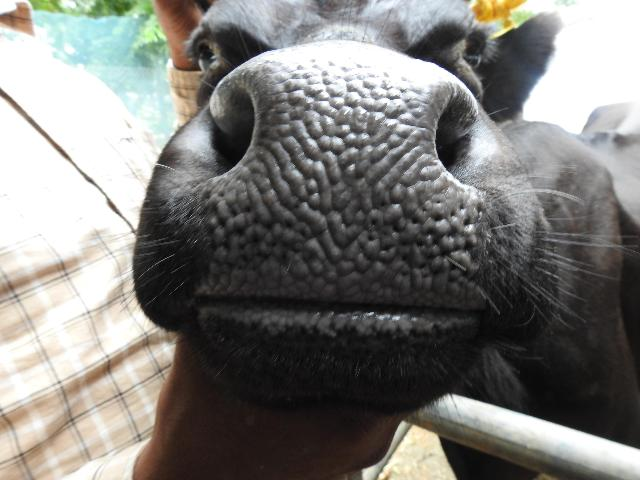Muzzle: (211, 70, 485, 306)
